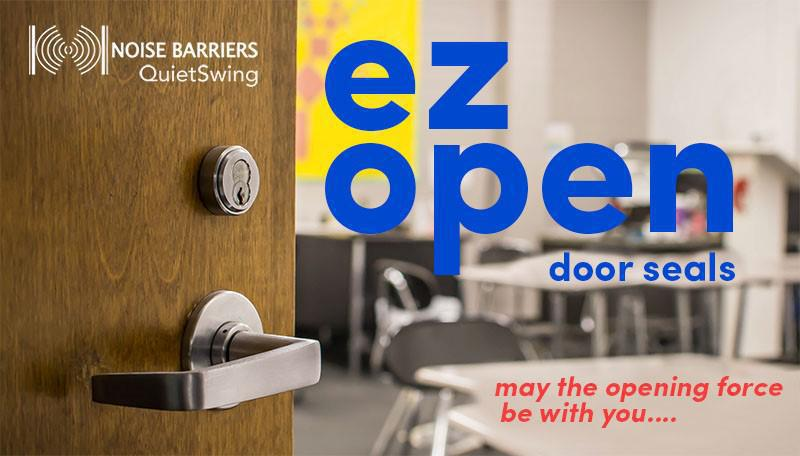doorhandle: (101, 254, 344, 424)
